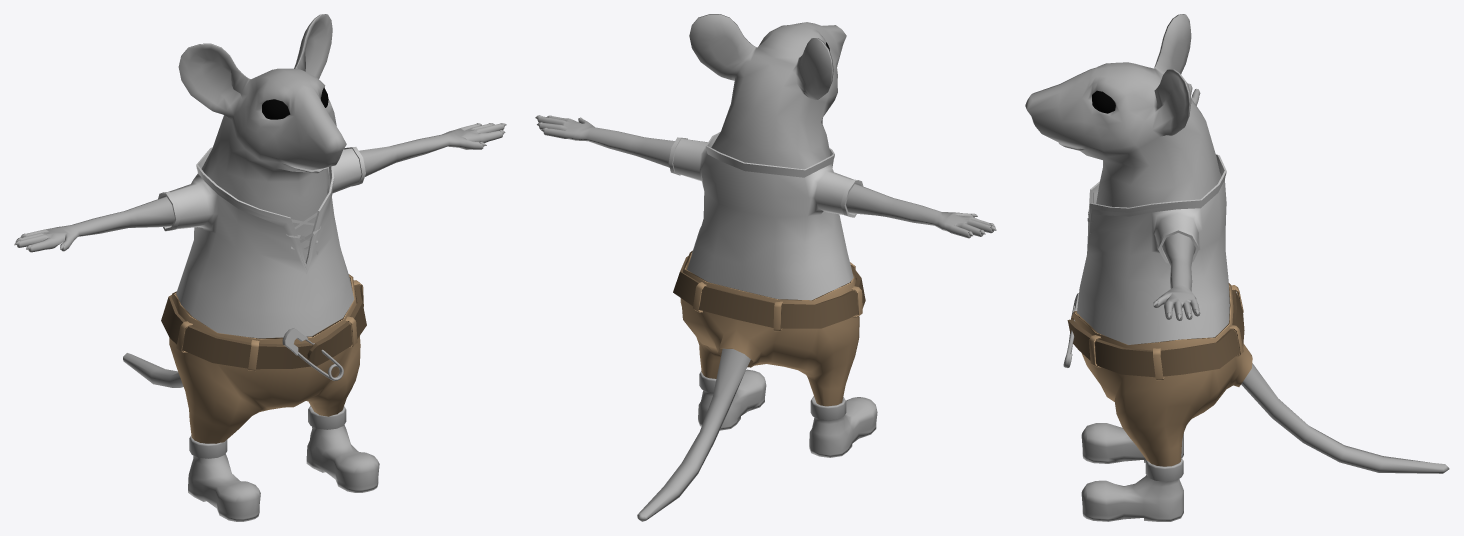
Rendered from Mouse_v1_non_Skinned.fbx.
The picture shows the model from 3 angles, left to right: view 1: azimuth 30°, elevation 25°; view 2: azimuth 150°, elevation 25°; view 3: azimuth 270°, elevation 25°; orthographic projection. The views are drawn at different scales.
Parts seen in each view (by area): view 1: polySurface27, polySurface21, polySurface19, polySurface20, pCube37; view 2: polySurface27, polySurface21, polySurface19, polySurface20; view 3: polySurface27, polySurface21, polySurface19, polySurface20, polySurface24.
Part boxes in pixels (<box>): polySurface27: <box>14,14,506,521</box>; polySurface21: <box>158,147,365,338</box>; polySurface19: <box>169,274,360,443</box>; polySurface20: <box>161,285,366,369</box>; pCube37: <box>282,328,343,380</box>; polySurface27: <box>535,14,996,521</box>; polySurface21: <box>668,132,863,300</box>; polySurface19: <box>680,250,859,406</box>; polySurface20: <box>673,256,865,328</box>; polySurface27: <box>1025,14,1449,521</box>; polySurface21: <box>1077,154,1229,344</box>; polySurface19: <box>1073,284,1252,466</box>; polySurface20: <box>1067,283,1244,377</box>; polySurface24: <box>1089,325,1243,380</box>.
Size of the model in its own units: 105 by 89.73 by 78.44.
